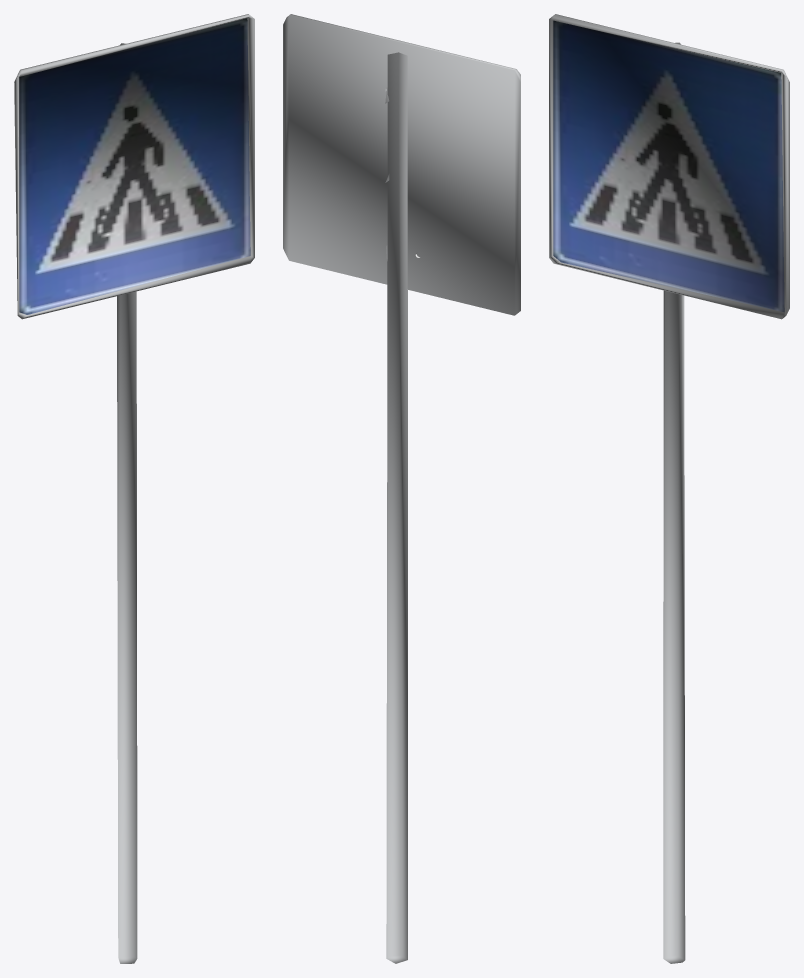
The model's file is sign_crossing.glb.
3 renders of one model, left to right at view 1: azimuth 30°, elevation 25°; view 2: azimuth 150°, elevation 25°; view 3: azimuth 330°, elevation 25°, orthographic.
Visible parts, largest first — view 1: sign_crossing; view 2: sign_crossing; view 3: sign_crossing.
Boxes of the visible parts, x1,y1,x2,y2 form: sign_crossing: (14, 14, 254, 963); sign_crossing: (283, 14, 520, 963); sign_crossing: (549, 14, 789, 963).
Size of the model in its own units: 0.762 by 2.79 by 0.077.
Materials: 1 (1 with a texture image).
